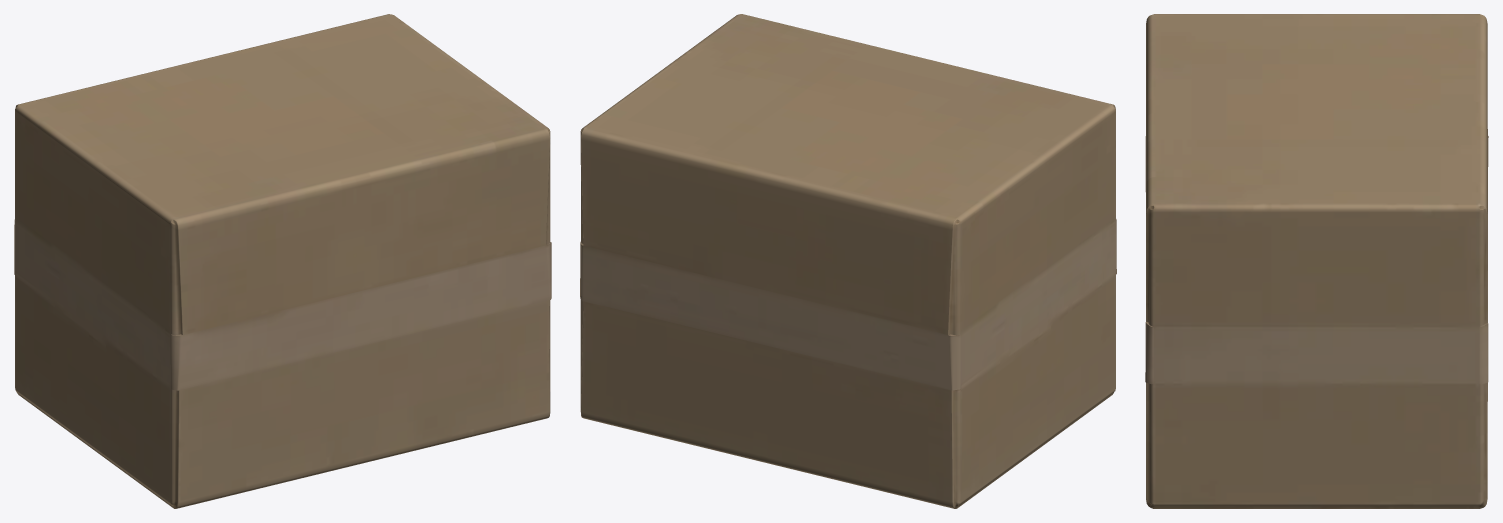
Rendered from box_cardboard_a01.glb.
The picture shows the model from 3 angles, left to right: view 1: azimuth 30°, elevation 25°; view 2: azimuth 150°, elevation 25°; view 3: azimuth 270°, elevation 25°; orthographic projection. The views are drawn at different scales.
Parts seen in each view (by area): view 1: sm_box_a01_mesh_00; view 2: sm_box_a01_mesh_00; view 3: sm_box_a01_mesh_00.
Boxes of the visible parts, box(x1,y1,x2,y2) form: sm_box_a01_mesh_00: box(14, 14, 551, 508); sm_box_a01_mesh_00: box(580, 14, 1116, 508); sm_box_a01_mesh_00: box(1145, 14, 1488, 508).
Size of the model in its own units: 0.6994 by 0.5099 by 0.5211.
Materials: 1 (1 with a texture image).
